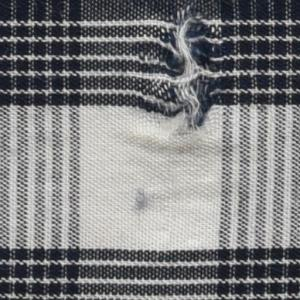Damage: (132, 1, 234, 138)
Stain: (129, 185, 155, 218)
